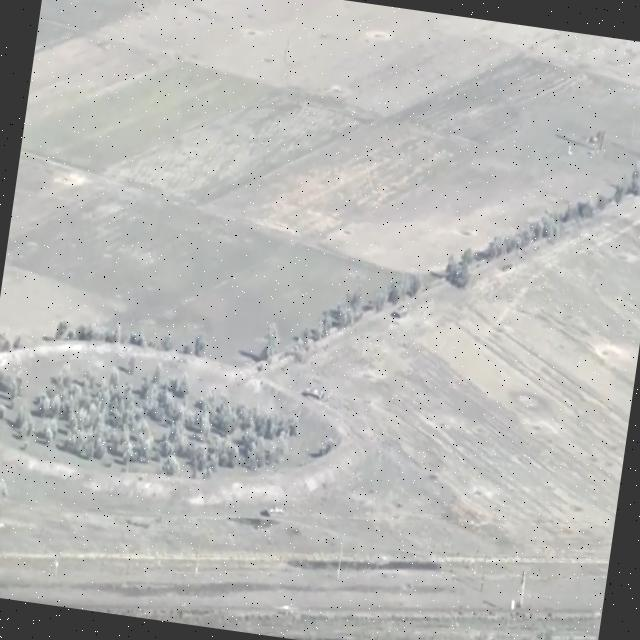AIFV: (302, 383, 327, 404), (264, 502, 289, 521), (392, 303, 411, 323)
